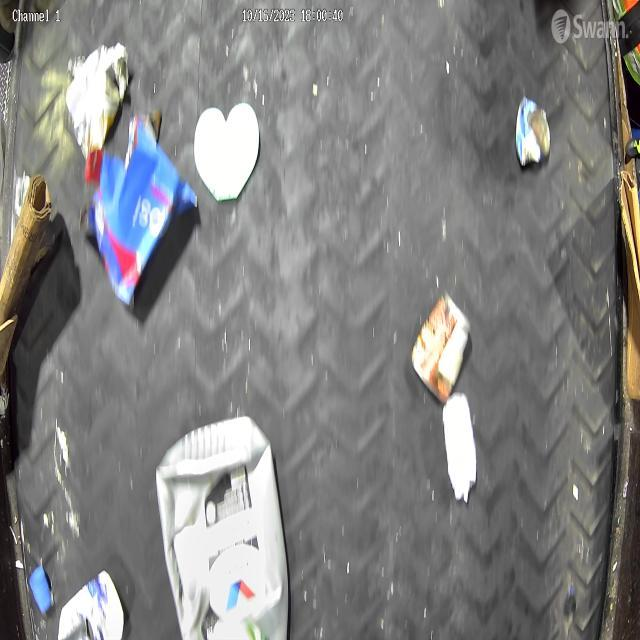can: (410, 292, 471, 406), (72, 73, 121, 160), (514, 96, 552, 169)
milk_jug: (58, 570, 125, 640)
non_white_jug: (156, 414, 288, 640), (85, 110, 198, 306)
